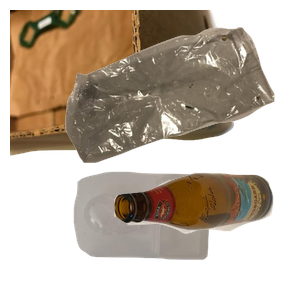cardboard: (10, 10, 237, 158)
glass: (111, 170, 300, 300)
plastic: (71, 169, 275, 300)
trash: (63, 24, 300, 179)
